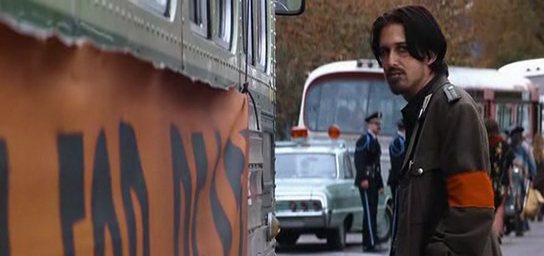face: (378, 26, 420, 95)
ms: (1, 1, 544, 256)
person: (369, 5, 504, 255), (354, 110, 384, 253)
